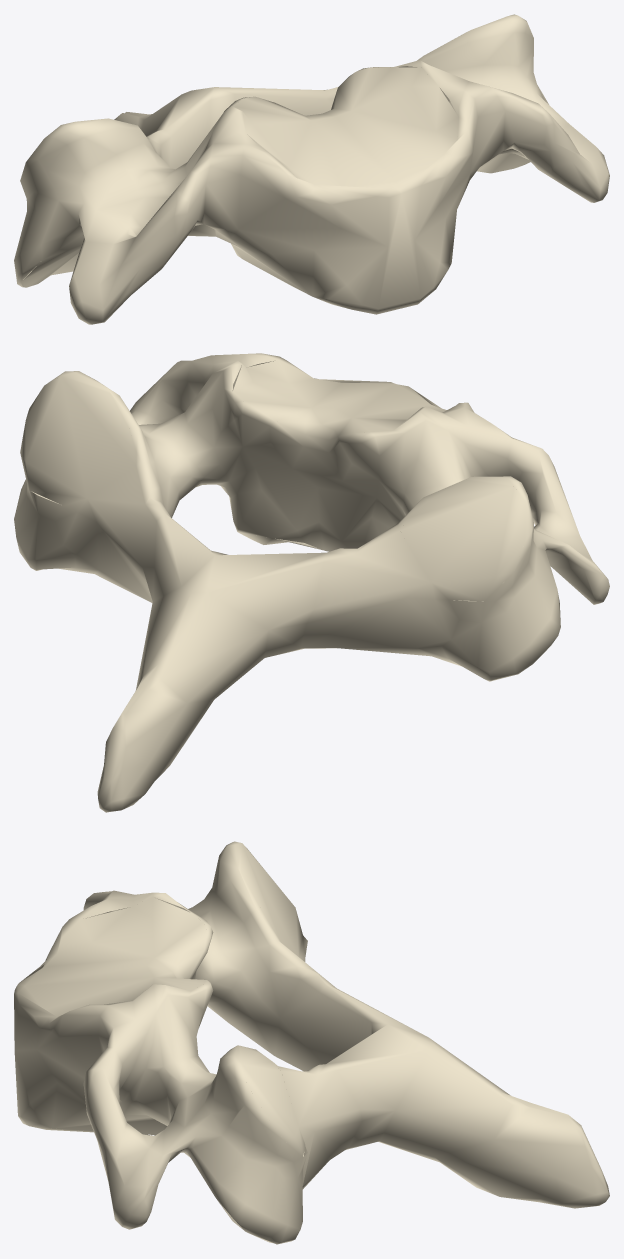
The model's file is esqueleto-vertebra-c3.glb.
3 renders of one model, top to bottom at view 1: azimuth 30°, elevation 25°; view 2: azimuth 150°, elevation 25°; view 3: azimuth 270°, elevation 25°, orthographic.
Parts seen in each view (by area): view 1: Vertebra C3; view 2: Vertebra C3; view 3: Vertebra C3.
Boxes of the visible parts, left/top/right/bottom form: Vertebra C3: left=14, top=14, right=609, bottom=324; Vertebra C3: left=14, top=353, right=609, bottom=812; Vertebra C3: left=14, top=841, right=609, bottom=1244.
Size of the model in its own units: 0.0565 by 0.0267 by 0.0541.
